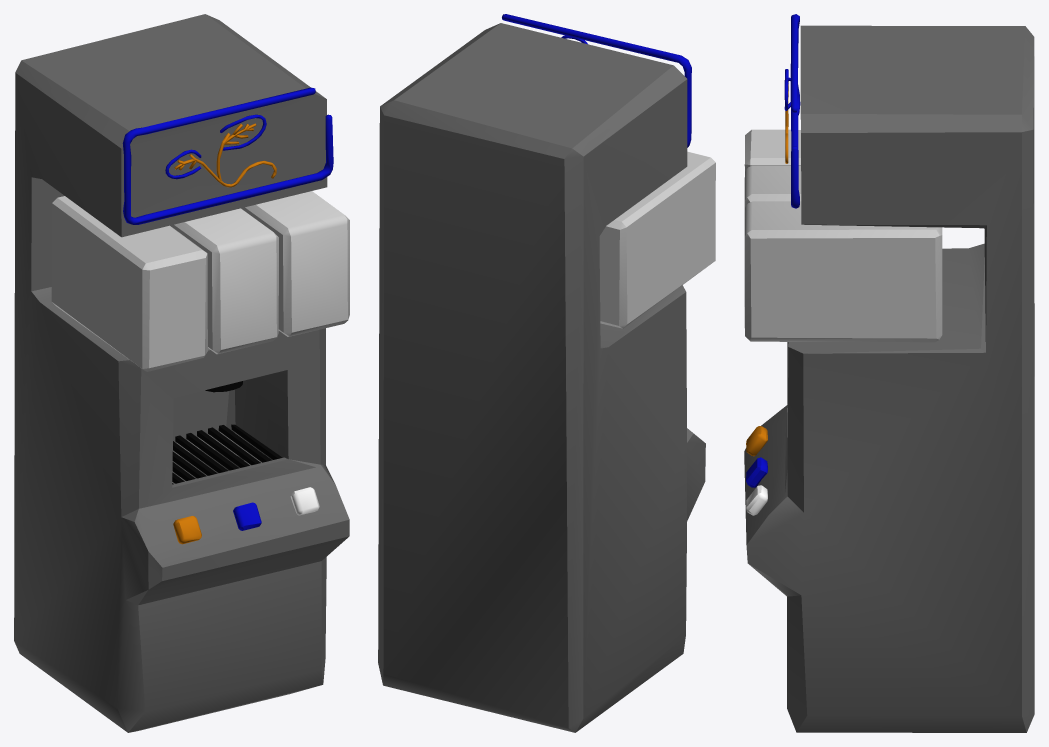
Rendered from Machine.fbx.
3 renders of one model, left to right at view 1: azimuth 30°, elevation 25°; view 2: azimuth 150°, elevation 25°; view 3: azimuth 270°, elevation 25°, orthographic. The views are drawn at different scales.
Visible parts, largest first — view 1: Cube.015, Cube.012, Cube.017, Cube.018, Cube.016 (×2), Cube.014, Cube.025, Cube.023, Cube.024; view 2: Cube.015, Cube.012, Cube.016; view 3: Cube.015, Cube.018, Cube.017, Cube.016, Cube.012.
Boxes of the visible parts, x1,y1,x2,y2 form: Cube.015: (14,14,349,732); Cube.012: (51,196,207,371); Cube.017: (170,208,278,354); Cube.018: (241,191,349,336); Cube.016 (×2): (122,87,333,224); Cube.014: (172,424,282,484); Cube.025: (173,516,201,544); Cube.023: (290,487,319,515); Cube.024: (233,502,261,530); Cube.015: (378,23,705,732); Cube.012: (599,151,715,328); Cube.016: (502,14,691,147); Cube.015: (744,25,1034,732); Cube.018: (744,201,942,342); Cube.017: (744,165,801,212); Cube.016: (784,14,800,208); Cube.012: (744,129,800,170).
Bounding box in the file's own units: 95.95 × 264 × 110.
